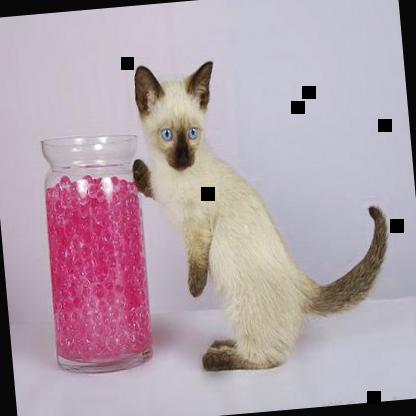cat: (123, 44, 398, 380)
